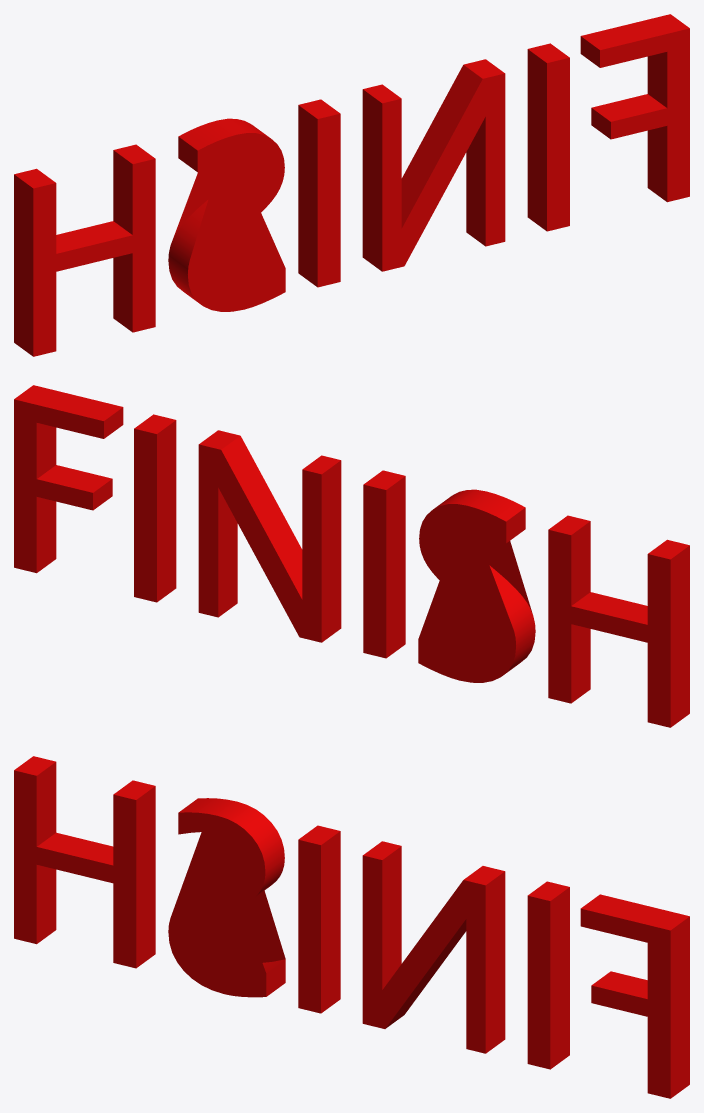
The model's file is Finish.fbx.
3 renders of one model, top to bottom at view 1: azimuth 30°, elevation 25°; view 2: azimuth 150°, elevation 25°; view 3: azimuth 330°, elevation 25°, orthographic.
Visible parts, largest first — view 1: typeMesh1; view 2: typeMesh1; view 3: typeMesh1.
Boxes of the visible parts, x1,y1,x2,y2 form: typeMesh1: [14, 14, 689, 356]; typeMesh1: [14, 385, 689, 727]; typeMesh1: [14, 756, 689, 1098].
Bounding box in the file's own units: 225 × 58.01 × 11.56.
